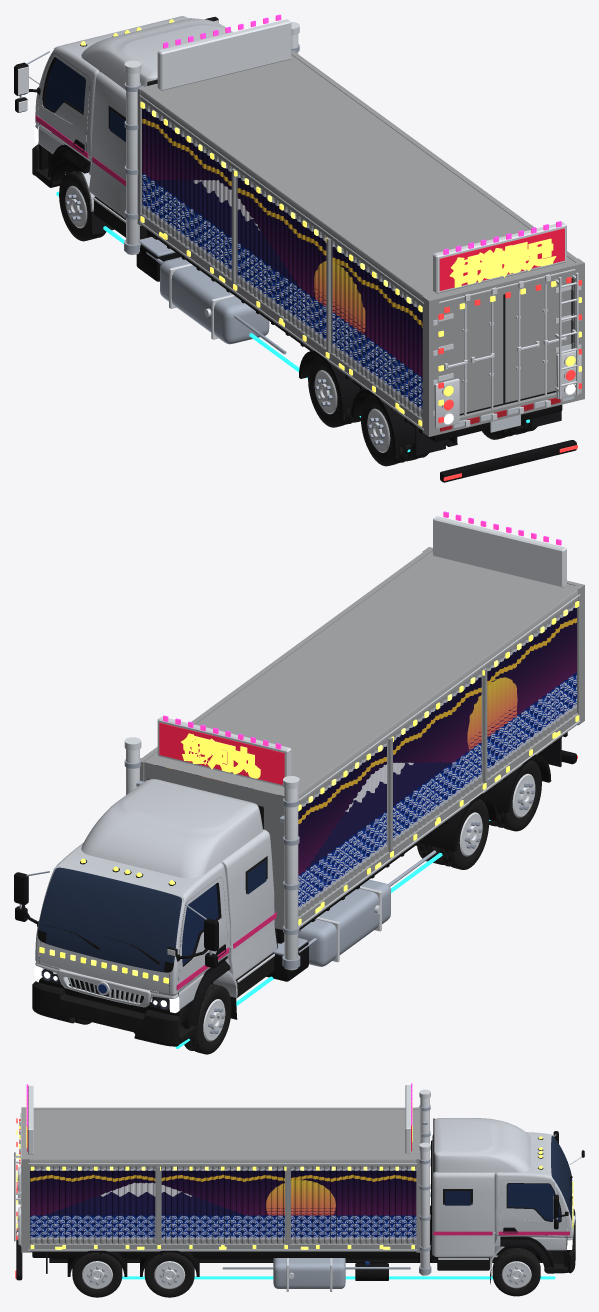
File: dekotora_truck_base_chata.glb
3 views of the same model, one above another, from view 1: azimuth 30°, elevation 25°; view 2: azimuth 150°, elevation 25°; view 3: azimuth 270°, elevation 25° (orthographic). The views are drawn at different scales.
Visible parts, largest first — view 1: truck_paint_white_box, truck_mural, truck_chrome, truck_box_metal, truck_paint_white_panel, truck_plastic_black, truck_steel, truck_lamp_amber, wheel_r_L_1.5_1.06, truck_glass, wheel_r_L_3.0_1.06, wheel_f_L (+6 smaller); view 2: truck_paint_white_box, truck_mural, truck_paint_white_panel, truck_chrome, truck_box_metal, truck_glass_wind, truck_plastic_black, truck_steel, truck_plastic_trim, truck_lamp_amber, truck_andon_panel, wheel_f_L (+4 smaller); view 3: truck_mural, truck_paint_white_box, truck_paint_white_panel, truck_box_metal, truck_plastic_black, truck_chrome, truck_steel, wheel_f_R, wheel_r_R_1.5_1.06, wheel_r_R_3.0_1.06, truck_glass, truck_plastic_trim (+5 smaller).
Boxes of the visible parts, left/top/right/bottom form: truck_paint_white_box: left=142, top=55, right=574, bottom=418; truck_mural: left=142, top=106, right=422, bottom=412; truck_chrome: left=18, top=19, right=581, bottom=430; truck_box_metal: left=137, top=50, right=584, bottom=436; truck_paint_white_panel: left=35, top=16, right=232, bottom=218; truck_plastic_black: left=14, top=16, right=576, bottom=482; truck_steel: left=19, top=17, right=299, bottom=354; truck_lamp_amber: left=80, top=19, right=581, bottom=426; wheel_r_L_1.5_1.06: left=361, top=395, right=412, bottom=466; truck_glass: left=44, top=58, right=125, bottom=141; wheel_r_L_3.0_1.06: left=308, top=356, right=356, bottom=427; wheel_f_L: left=59, top=170, right=105, bottom=241; truck_paint_white_box: left=144, top=551, right=576, bottom=929; truck_mural: left=154, top=605, right=576, bottom=910; truck_paint_white_panel: left=35, top=779, right=276, bottom=1009; truck_chrome: left=28, top=516, right=580, bottom=1007; truck_box_metal: left=140, top=547, right=584, bottom=927; truck_glass_wind: left=38, top=867, right=181, bottom=972; truck_plastic_black: left=14, top=732, right=576, bottom=1028; truck_steel: left=19, top=759, right=436, bottom=968; truck_plastic_trim: left=32, top=778, right=274, bottom=1046; truck_lamp_amber: left=39, top=601, right=579, bottom=983; truck_andon_panel: left=159, top=723, right=284, bottom=784; wheel_f_L: left=184, top=983, right=231, bottom=1054; truck_mural: left=30, top=1168, right=416, bottom=1239; truck_paint_white_box: left=25, top=1109, right=420, bottom=1243; truck_paint_white_panel: left=432, top=1118, right=572, bottom=1269; truck_box_metal: left=21, top=1107, right=421, bottom=1252; truck_plastic_black: left=16, top=1131, right=584, bottom=1280; truck_chrome: left=14, top=1085, right=584, bottom=1291; truck_steel: left=222, top=1105, right=557, bottom=1288; wheel_f_R: left=492, top=1248, right=540, bottom=1296; wheel_r_R_1.5_1.06: left=72, top=1252, right=122, bottom=1297; wheel_r_R_3.0_1.06: left=144, top=1252, right=194, bottom=1297; truck_glass: left=445, top=1183, right=560, bottom=1221; truck_plastic_trim: left=433, top=1118, right=575, bottom=1273.
Bounding box in the file's own units: 3.33 × 3.91 × 11.85.
Materials: 24 (7 with a texture image).
